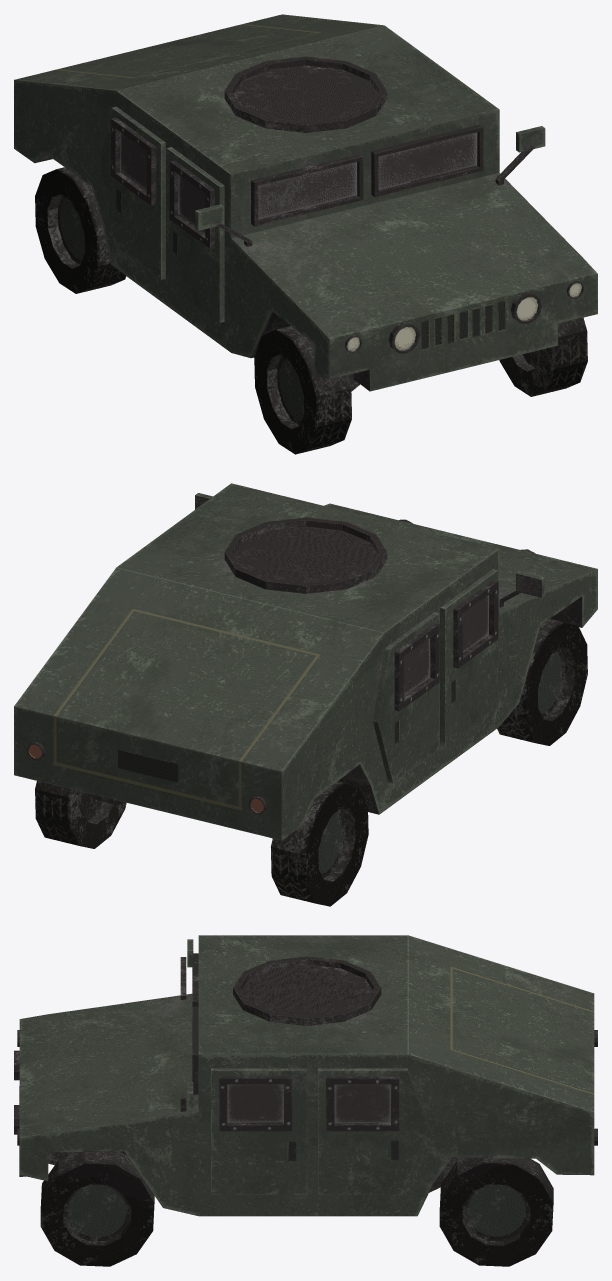
File: hmv_jungle.fbx
3 views of the same model, one above another, from view 1: azimuth 30°, elevation 25°; view 2: azimuth 150°, elevation 25°; view 3: azimuth 270°, elevation 25° (orthographic). The views are drawn at different scales.
Visible parts, largest first — view 1: jungle_hmv; view 2: jungle_hmv; view 3: jungle_hmv.
Boxes of the visible parts, x1,y1,x2,y2 form: jungle_hmv: [14, 14, 597, 454]; jungle_hmv: [14, 483, 597, 906]; jungle_hmv: [14, 935, 597, 1266].
Bounding box in the file's own units: 253 × 168 × 406.
Materials: 1 (1 with a texture image).
